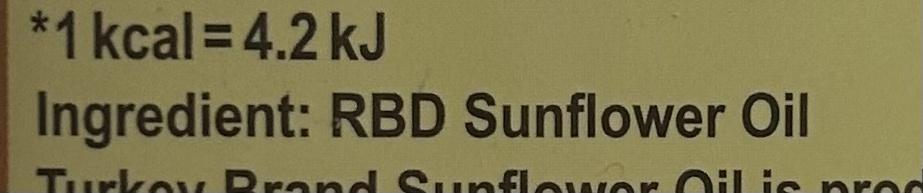ingredients: (25, 71, 827, 152)
